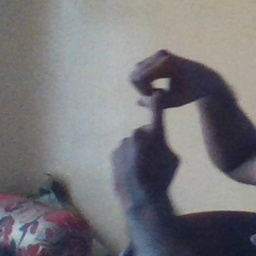Q: (110, 48, 206, 196)
